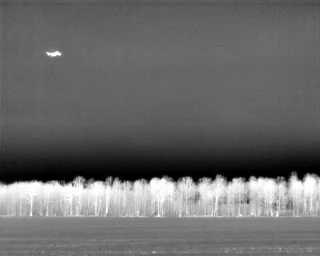DRONE: (42, 46, 65, 62)
